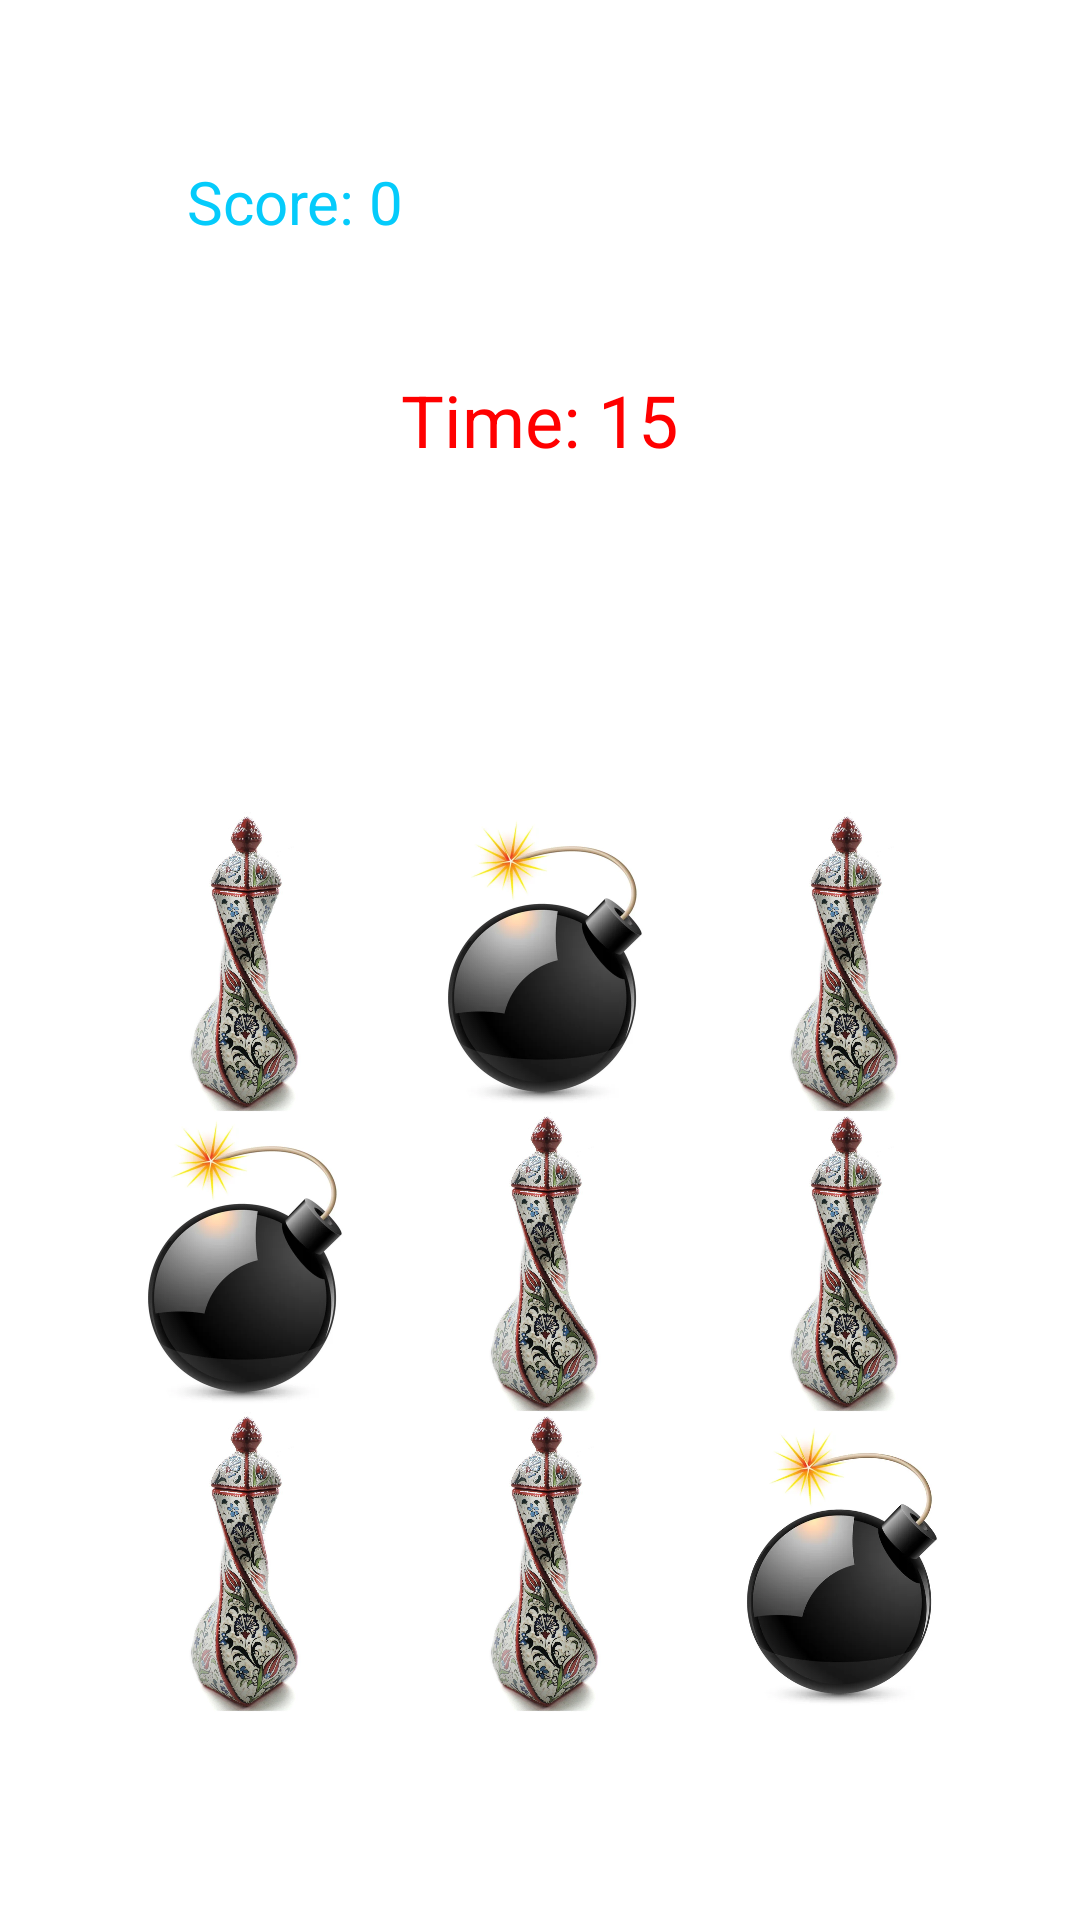

Point at icon controls on the screen. Image size 1080px x 1920px, points as (x,y).
bomba: (545,960), (245,1260), (842,1565)
vazo: (244,963), (844,963), (544,1263), (844,1263), (244,1563), (544,1563)
